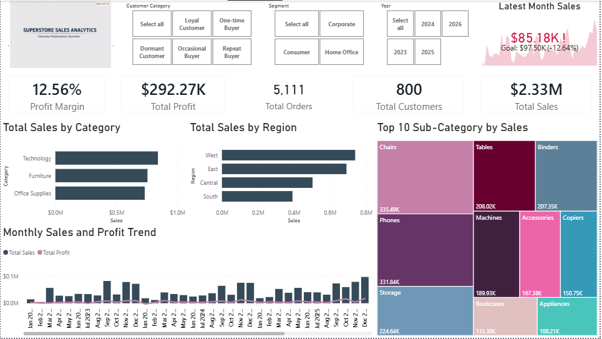

The page's visual inventory and layout, read from the dashboard file:
{"tool":"powerbi","page":{"name":"Executive Overview","canvas":[1280,720],"ordinal":0},"visuals":[{"type":"cardVisual","title":"Total Sales","fields":{"Data":["superstore_cleaned.Total Sales"]},"box":[1008,144,272,112],"z":0},{"type":"cardVisual","title":"Net Profit","fields":{"Data":["calendar.Net Profit"]},"box":[240,144,256,112],"z":1000},{"type":"cardVisual","title":"Total Customers","fields":{"Data":["superstore_cleaned.Total Customers"]},"box":[736,144,272,112],"z":2000},{"type":"clusteredBarChart","title":"Total Sales by Category","fields":{"Category":["superstore_cleaned.category"],"Y":["superstore_cleaned.Total Sales"]},"box":[0,256,400,224],"z":3000},{"type":"clusteredBarChart","title":"Total Sales by Region","fields":{"Category":["superstore_cleaned.region"],"Y":["Sum(superstore_cleaned.sales)"]},"box":[400,256,400,224],"z":4000},{"type":"treemap","title":"Top 10 Sub-Category by Sales","fields":{"Group":["superstore_cleaned.sub_category"],"Values":["Sum(superstore_cleaned.sales)"]},"box":[800,256,480,464],"z":5000},{"type":"slicer","fields":{"Values":["superstore_cleaned.year"]},"box":[800,0,224,144],"z":6000},{"type":"slicer","fields":{"Values":["superstore_cleaned.segment"]},"box":[560,0,240,144],"z":7000},{"type":"slicer","fields":{"Values":["superstore_cleaned.customer_category"]},"box":[256,0,304,144],"z":8000},{"type":"lineClusteredColumnComboChart","title":"Monthly Sales and Profit Trend","fields":{"Category":["calendar.Year Month"],"Y":["superstore_cleaned.Total Sales"],"Y2":["superstore_cleaned.Total Profit"]},"box":[0,480,800,240],"z":9000},{"type":"cardVisual","fields":{"Data":["superstore_cleaned.Profit Margin"]},"box":[0,144,240,112],"z":10000},{"type":"kpi","title":"Latest Month Sales","fields":{"Indicator":["superstore_cleaned.Total Sales"],"TrendLine":["calendar.Start of Month"],"Goal":["superstore_cleaned.Revenue Previous Month"]},"box":[1024,0,256,144],"z":11000},{"type":"image","box":[0,0,256,144],"z":12000},{"type":"card","fields":{"Values":["superstore_cleaned.Order Count"]},"box":[496,144,240,112],"z":13000}]}

Visuals, with their boxes in screenshot pixels (x1, y1, x2, y2), scaled from the page's 1280x720 canvas onto the 602x339 screenshot:
"Total Sales" cardVisual: l=474, t=68, r=601, b=121
"Net Profit" cardVisual: l=113, t=68, r=233, b=121
"Total Customers" cardVisual: l=346, t=68, r=474, b=121
"Total Sales by Category" clusteredBarChart: l=0, t=121, r=188, b=226
"Total Sales by Region" clusteredBarChart: l=188, t=121, r=376, b=226
"Top 10 Sub-Category by Sales" treemap: l=376, t=121, r=601, b=338
slicer - superstore_cleaned.year: l=376, t=0, r=482, b=68
slicer - superstore_cleaned.segment: l=263, t=0, r=376, b=68
slicer - superstore_cleaned.customer_category: l=120, t=0, r=263, b=68
"Monthly Sales and Profit Trend" lineClusteredColumnComboChart: l=0, t=226, r=376, b=338
cardVisual - superstore_cleaned.Profit Margin: l=0, t=68, r=113, b=121
"Latest Month Sales" kpi: l=482, t=0, r=601, b=68
image: l=0, t=0, r=120, b=68
card - superstore_cleaned.Order Count: l=233, t=68, r=346, b=121
